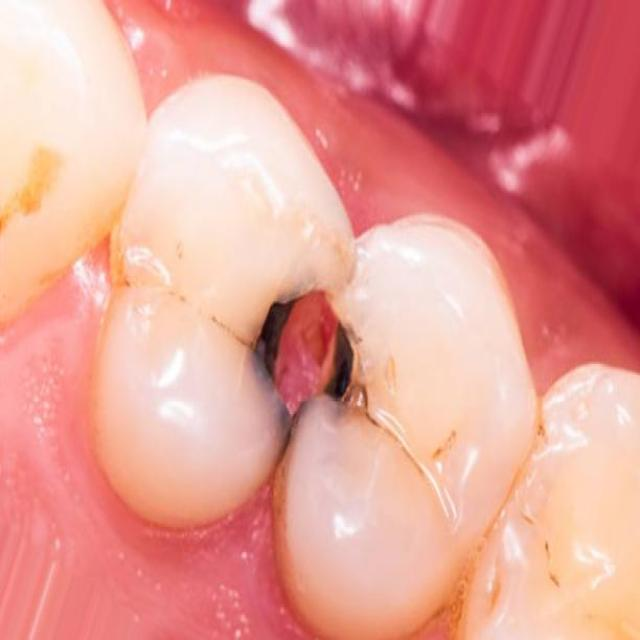caries: (236, 264, 382, 464)
